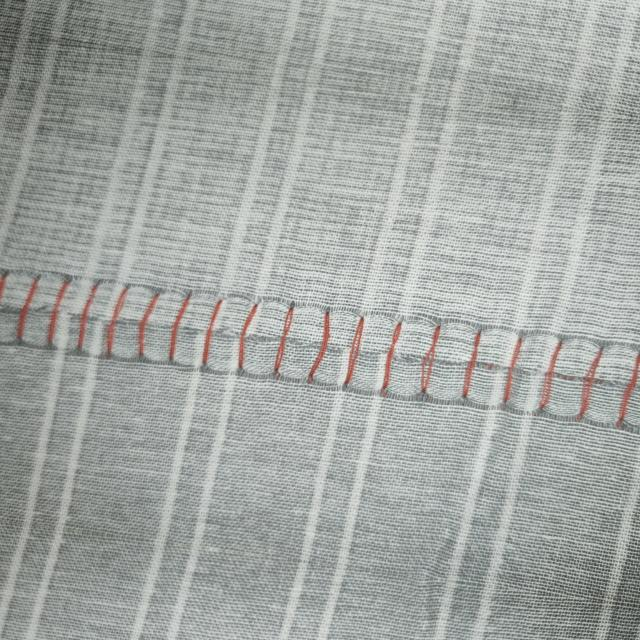gray stitch: (1, 267, 339, 389), (333, 309, 640, 432)
